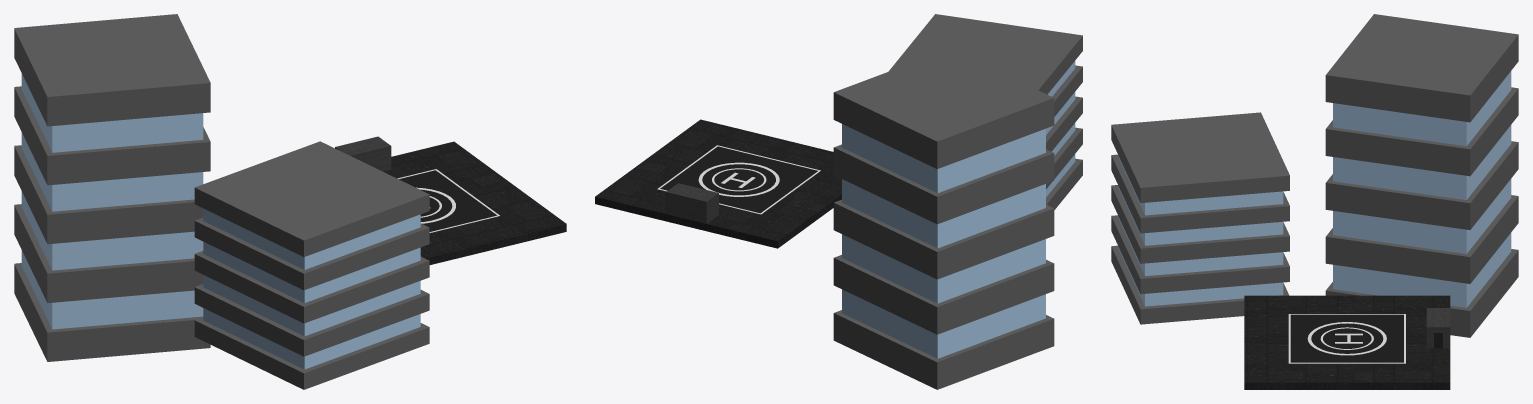
The model's file is Neo scine.fbx.
3 views of the same model, side by side, from view 1: azimuth 30°, elevation 25°; view 2: azimuth 150°, elevation 25°; view 3: azimuth 270°, elevation 25° (orthographic). The views are drawn at different scales.
Parts seen in each view (by area): view 1: Cube.001, Cube, helicopterArea.001, helicopterArea.000, helicopterArea.005; view 2: Cube.001, helicopterArea.001, Cube, helicopterArea.000, helicopterArea.005; view 3: Cube.001, Cube, helicopterArea.001, helicopterArea.000, helicopterArea.005.
Boxes of the visible parts, x1,y1,x2,y2 form: Cube.001: (14, 14, 210, 361); Cube: (194, 141, 429, 389); helicopterArea.001: (383, 141, 566, 264); helicopterArea.000: (397, 169, 499, 232); helicopterArea.005: (335, 136, 391, 171); Cube.001: (833, 48, 1054, 389); helicopterArea.001: (595, 119, 841, 248); Cube: (888, 14, 1082, 209); helicopterArea.000: (657, 145, 820, 214); helicopterArea.005: (666, 183, 718, 223); Cube.001: (1325, 14, 1518, 337); Cube: (1111, 112, 1289, 324); helicopterArea.001: (1244, 295, 1450, 389); helicopterArea.000: (1288, 314, 1405, 363); helicopterArea.005: (1426, 308, 1450, 348).
Bounding box in the file's own units: 5975 × 3374 × 5139.
Materials: 7 (2 with a texture image).
